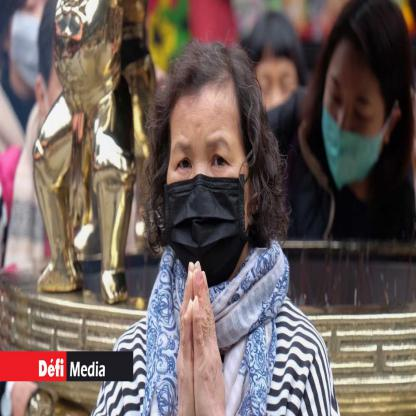Wearing_Mask: (160, 131, 250, 286), (320, 66, 383, 190)
